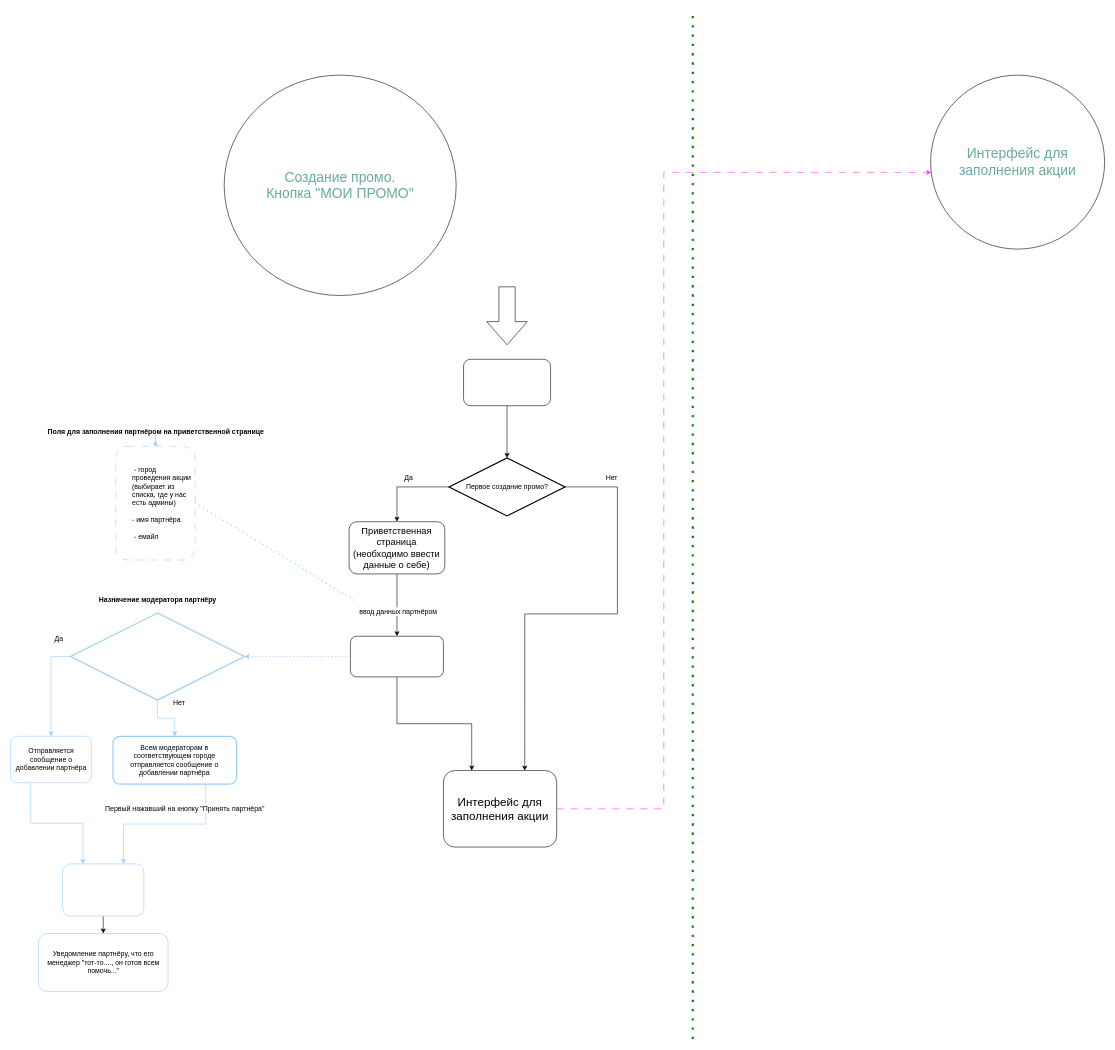
Image size: 1115x1050. Some labels were removed from this diagram. The centre of each missing label's shape, as x and y in pixels:
Нажатие на кнопку "МОИ ПРОМО": [507,382]
Назначение модератора к новому партнёру: [396,656]
Партнёр зашёл по реферальной ссылке?: [157,656]
Партнёру назначается менеджер, соответствующая запись в БД: [103,889]
